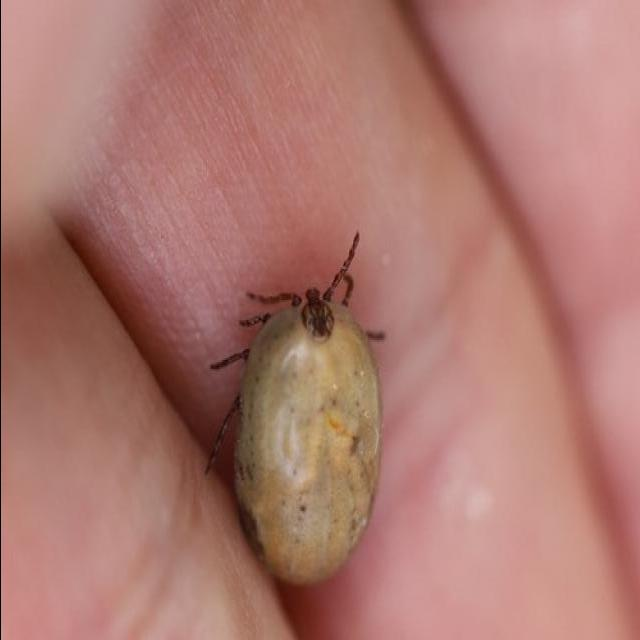Dermacentor Reticulatus-F-Fed: (204, 231, 385, 585)
